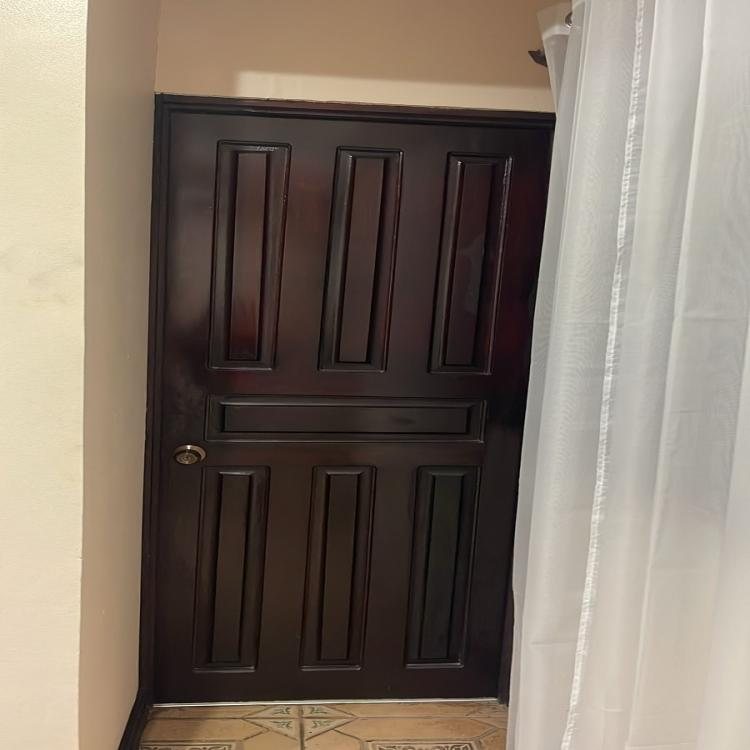ClosedDoor: (131, 76, 546, 709)
